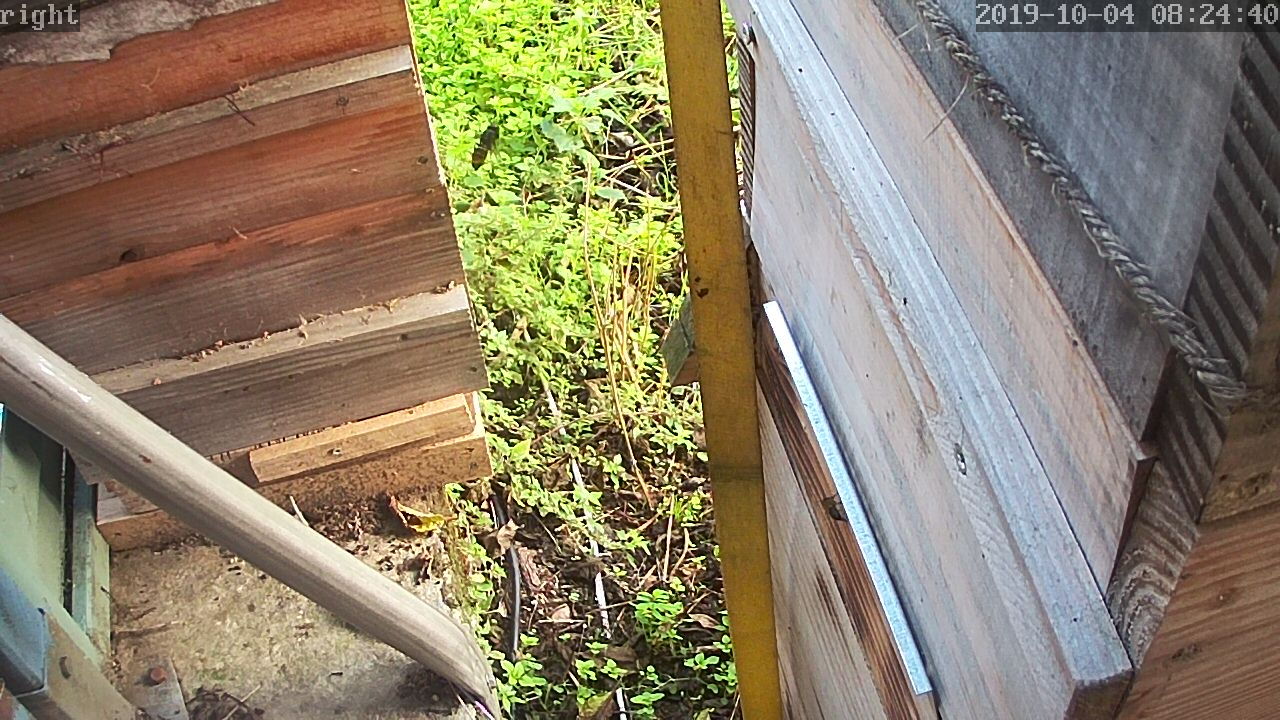bee: (818, 495, 845, 526)
hornet: (462, 115, 504, 173)
